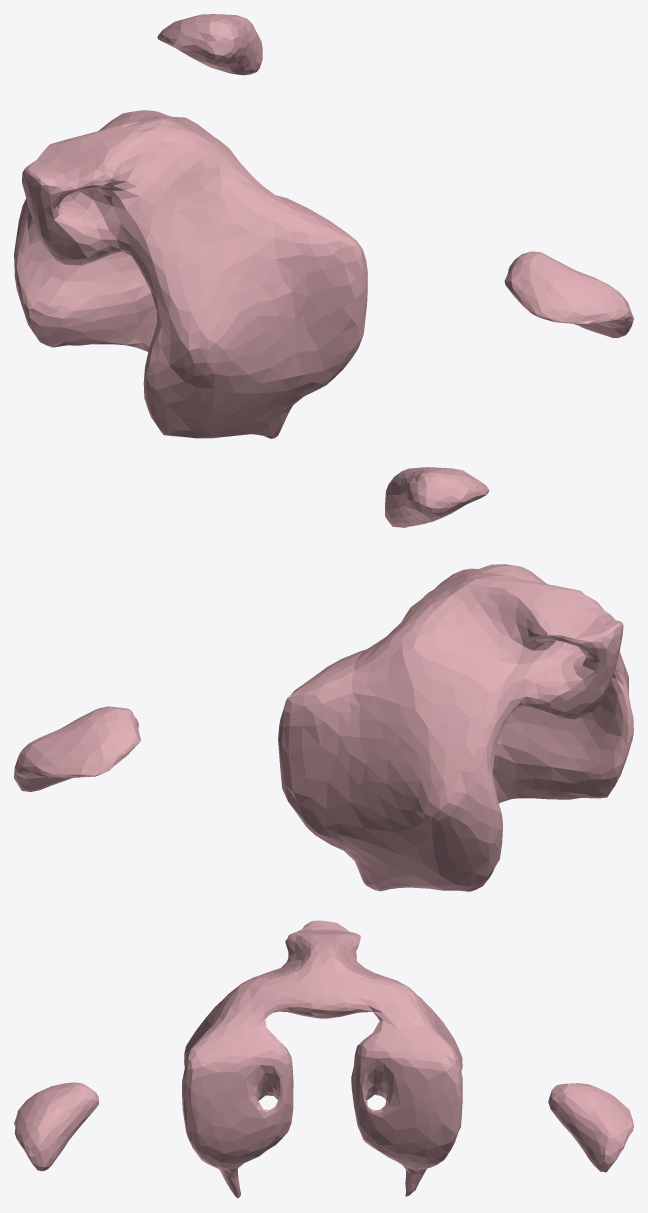
3 renders of one model, top to bottom at view 1: azimuth 30°, elevation 25°; view 2: azimuth 150°, elevation 25°; view 3: azimuth 270°, elevation 25°, orthographic. The views are drawn at different scales.
Visible parts, largest first — view 1: 51.obj; view 2: 51.obj; view 3: 51.obj.
Boxes of the visible parts, x1,y1,x2,y2 form: 51.obj: [14, 14, 633, 438]; 51.obj: [14, 467, 633, 891]; 51.obj: [14, 920, 633, 1198].
Size of the model in its own units: 2902 by 1921 by 4862.
